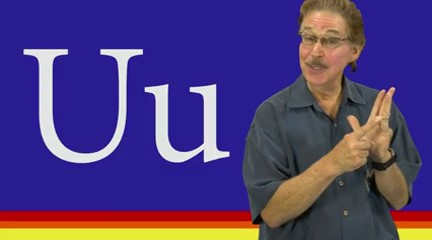U: (330, 84, 398, 174)
